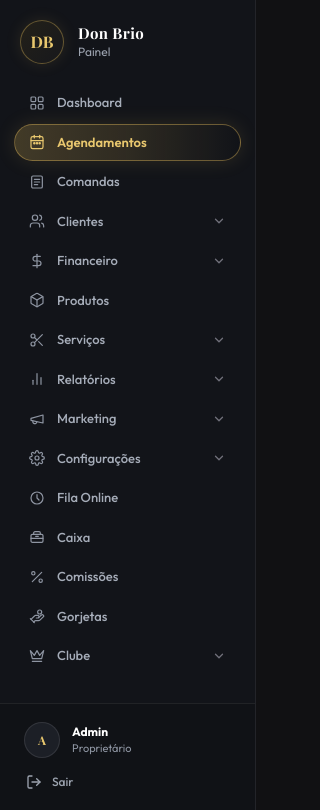
Test: Sidebar Logo Fallback › exibe subitem Vitrine pública dentro de Marketing para OWNER
Note: Click Marketing to expand it
Click the button "Marketing": click(128, 419) [14,400,241,438]
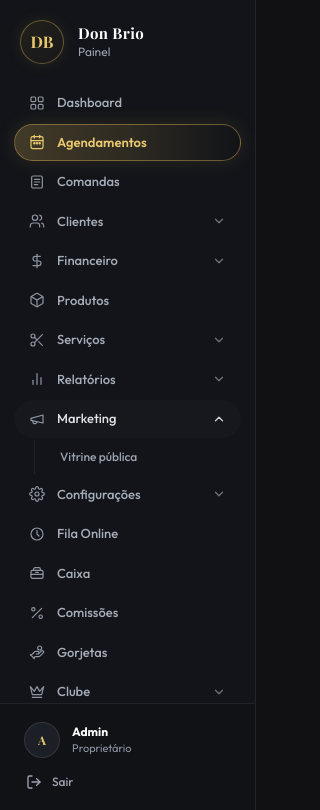
Result: the text "Vitrine pública" is shown at [60,448,137,464]
